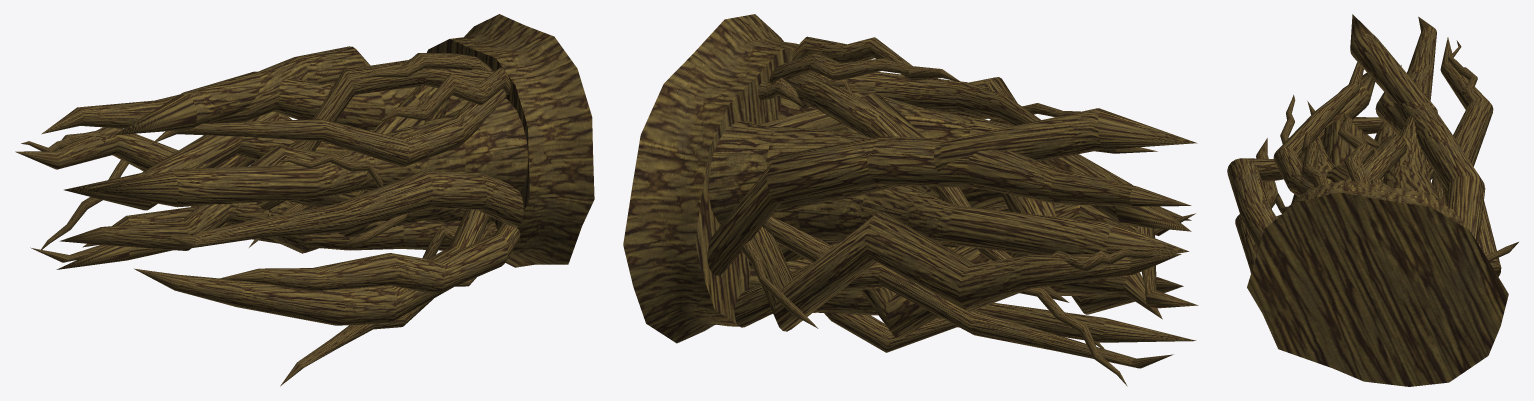
Rendered from miki.fbx.
The picture shows the model from 3 angles, left to right: view 1: azimuth 30°, elevation 25°; view 2: azimuth 150°, elevation 25°; view 3: azimuth 270°, elevation 25°; orthographic projection. The views are drawn at different scales.
Visible parts, largest first — view 1: ne, Cylinder005, Cylinder017, Cylinder012, Cylinder003, Cylinder028, Cylinder004, Cylinder027, Cylinder029, Cylinder015, Cylinder008, Cylinder021 (+10 smaller); view 2: ne, Cylinder029, Cylinder008, Cylinder028, Cylinder015, Cylinder018, Cylinder013, Cylinder005, Cylinder004, Cylinder021, Cylinder027, Cylinder016 (+10 smaller); view 3: ne, Cylinder029, Cylinder028, Cylinder008, Cylinder017, Cylinder004, Cylinder013, Cylinder005, Cylinder030, Cylinder016, Cylinder003, Cylinder023 (+4 smaller).
Part boxes in pixels (x1,y1,x2,y2): ne: (427,14,594,267); Cylinder005: (87,99,527,207); Cylinder017: (169,171,523,248); Cylinder012: (134,209,489,325); Cylinder003: (220,222,520,294); Cylinder028: (114,71,462,135); Cylinder004: (152,89,505,166); Cylinder027: (59,201,465,253); Cylinder029: (41,46,370,134); Cylinder015: (64,99,468,210); Cylinder008: (15,111,291,171); Cylinder021: (56,220,460,269); ne: (623,14,798,343); Cylinder029: (707,136,1191,275); Cylinder008: (751,211,1181,331); Cylinder028: (708,108,1197,223); Cylinder015: (771,185,1189,254); Cylinder018: (735,262,1173,368); Cylinder013: (760,93,1162,319); Cylinder005: (777,93,1191,231); Cylinder004: (812,71,1157,153); Cylinder021: (749,259,1196,342); Cylinder027: (748,204,1198,338); Cylinder016: (778,62,1069,302); ne: (1247,180,1508,386); Cylinder029: (1394,16,1485,244); Cylinder028: (1350,14,1442,203); Cylinder008: (1433,37,1501,276); Cylinder017: (1227,101,1314,249); Cylinder004: (1273,62,1363,196); Cylinder013: (1322,121,1398,187); Cylinder005: (1291,73,1375,203); Cylinder030: (1338,112,1373,184); Cylinder016: (1345,134,1407,181); Cylinder003: (1235,138,1277,273); Cylinder023: (1301,132,1328,187).
Size of the model in its own units: 1428 by 784 by 903.
Materials: 5 (5 with a texture image).
